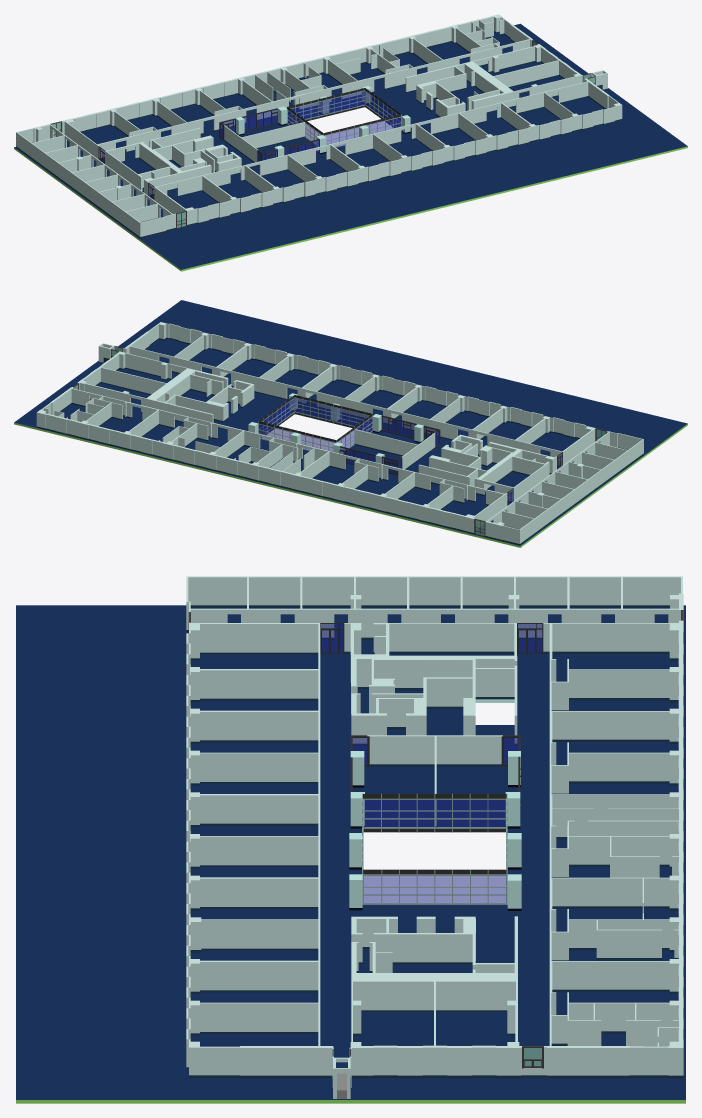
File: 5F_Floor 1.fbx
3 views of the same model, one above another, from view 1: azimuth 30°, elevation 25°; view 2: azimuth 150°, elevation 25°; view 3: azimuth 270°, elevation 25° (orthographic). The views are drawn at different scales.
Parts seen in each view (by area): view 1: 5_Floor, Out_Wall, Room_01, Room_03, Room_04, Center_Glass_5F, 5F_EV_02_Room, 5F_EV_02, 5F_EV_01_Room, 5F_EV_01, Room_02, Class_Room (+5 smaller); view 2: 5_Floor, Out_Wall, Room_01, Room_03, Room_04, Center_Glass_5F, 5F_EV_02_Room, 5F_EV_02, 5F_EV_01_Room, 5F_EV_01, Room_02, Class_Room (+5 smaller); view 3: 5_Floor, Room_01, Out_Wall, Room_03, Center_Glass_5F, 5F_EV_01, Room_04, 5F_EV_02_Room, 5F_EV_02, 5F_EV_01_Room, Room_02, Center_Pillar_5F (+4 smaller).
Part boxes in pixels (left/top/right/bottom): 5_Floor: left=14, top=23, right=687, bottom=271; Out_Wall: left=16, top=14, right=622, bottom=238; Room_01: left=64, top=19, right=530, bottom=159; Room_03: left=154, top=81, right=588, bottom=213; Room_04: left=32, top=125, right=172, bottom=222; Center_Glass_5F: left=287, top=88, right=401, bottom=147; 5F_EV_02_Room: left=466, top=45, right=579, bottom=107; 5F_EV_02: left=419, top=63, right=507, bottom=117; 5F_EV_01_Room: left=105, top=142, right=182, bottom=195; 5F_EV_01: left=141, top=139, right=241, bottom=179; Room_02: left=224, top=122, right=305, bottom=162; Class_Room: left=219, top=108, right=319, bottom=166; 5_Floor: left=14, top=300, right=687, bottom=547; Out_Wall: left=36, top=322, right=643, bottom=545; Room_01: left=44, top=388, right=507, bottom=521; Room_03: left=129, top=335, right=595, bottom=466; Room_04: left=487, top=431, right=627, bottom=529; Center_Glass_5F: left=258, top=395, right=372, bottom=452; 5F_EV_02_Room: left=80, top=352, right=193, bottom=412; 5F_EV_02: left=152, top=369, right=254, bottom=419; 5F_EV_01_Room: left=477, top=449, right=556, bottom=502; 5F_EV_01: left=441, top=434, right=518, bottom=494; Room_02: left=354, top=429, right=435, bottom=469; Class_Room: left=339, top=415, right=440, bottom=475; 5_Floor: left=16, top=605, right=685, bottom=1103; Room_01: left=543, top=623, right=678, bottom=1046; Out_Wall: left=186, top=576, right=683, bottom=1078; Room_03: left=190, top=623, right=320, bottom=1045; Center_Glass_5F: left=362, top=793, right=507, bottom=904; 5F_EV_01: left=351, top=658, right=517, bottom=745; Room_04: left=190, top=577, right=678, bottom=639; 5F_EV_02_Room: left=351, top=975, right=517, bottom=1046; 5F_EV_02: left=351, top=916, right=517, bottom=975; 5F_EV_01_Room: left=344, top=623, right=517, bottom=684; Room_02: left=367, top=735, right=502, bottom=827; Center_Pillar_5F: left=349, top=751, right=521, bottom=910.
Bounding box in the file's own units: 87.32 × 3.17 × 50.
